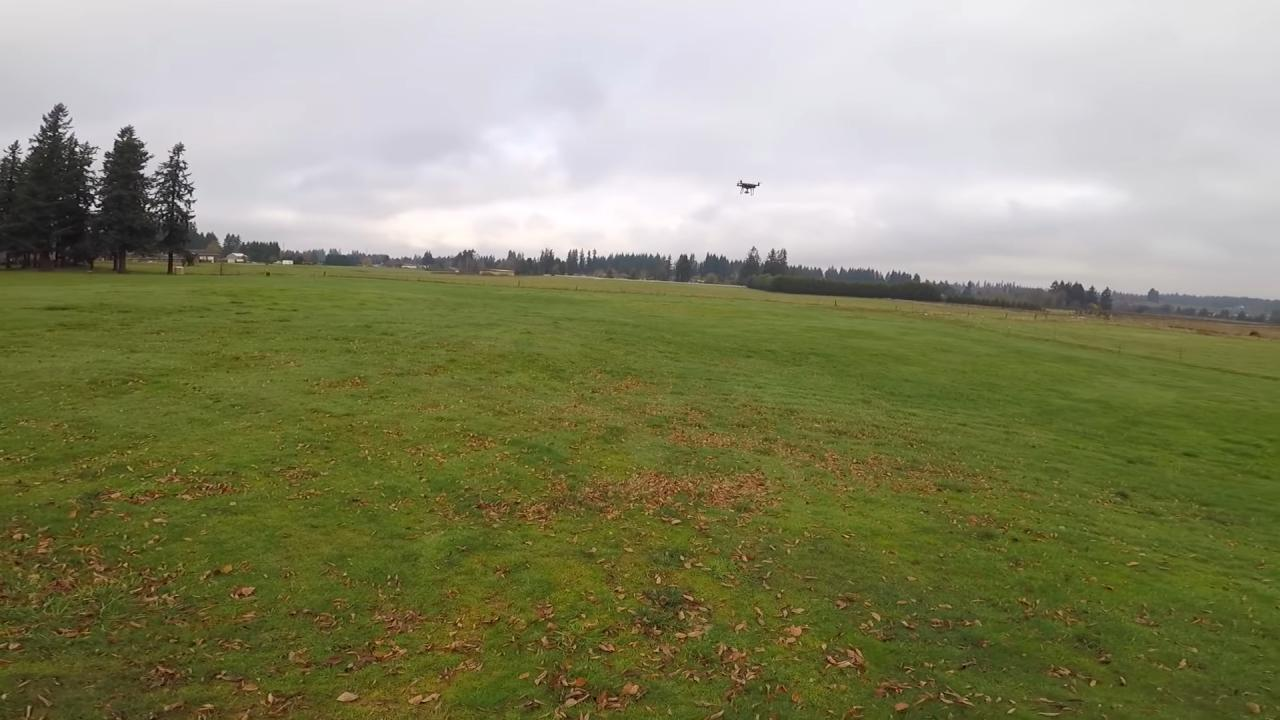Drone: (727, 172, 768, 202)
